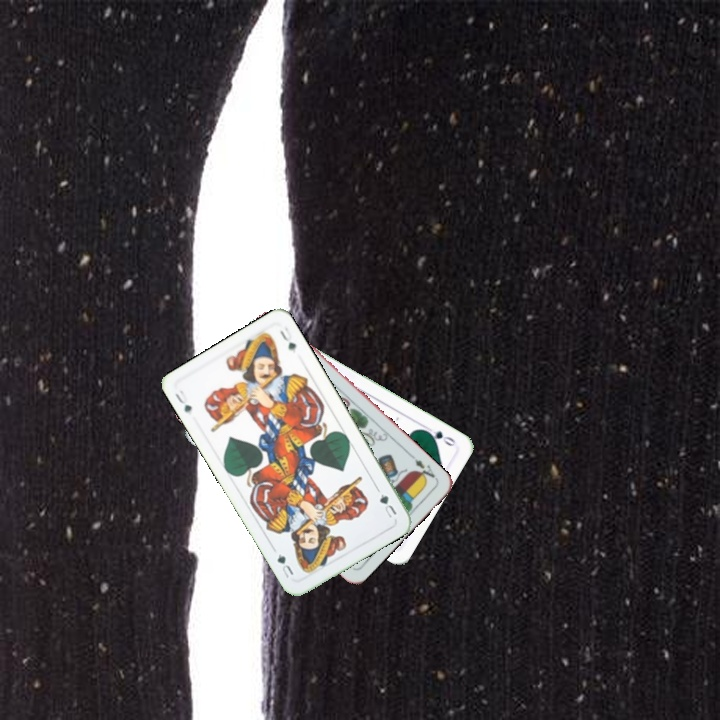EA: (406, 450, 439, 485)
GO: (420, 426, 458, 449)
GU: (375, 490, 399, 521), (171, 386, 194, 416)
